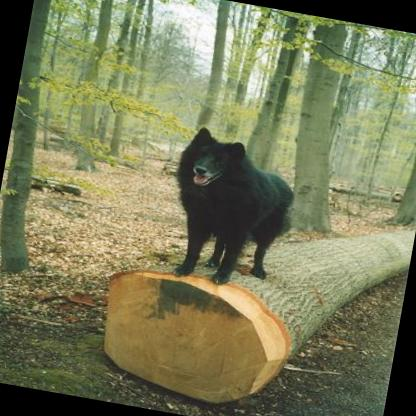groenendael: (153, 119, 301, 295)
